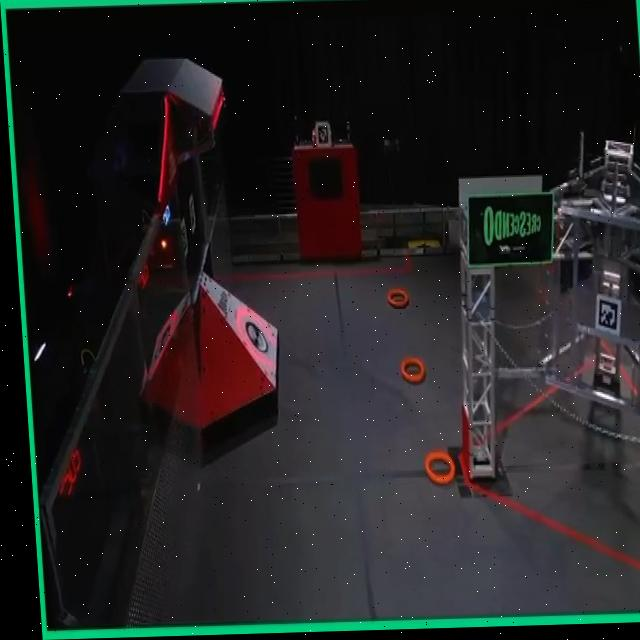note: (417, 455, 449, 488), (394, 359, 423, 388), (379, 291, 405, 312)
